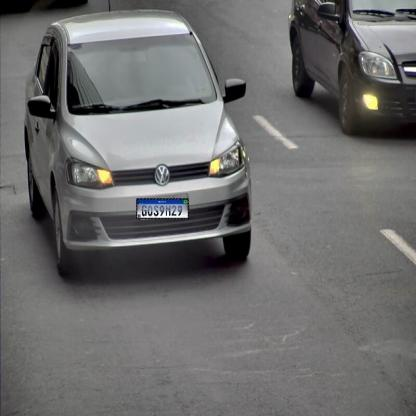PlacaM: (136, 198, 189, 219)
